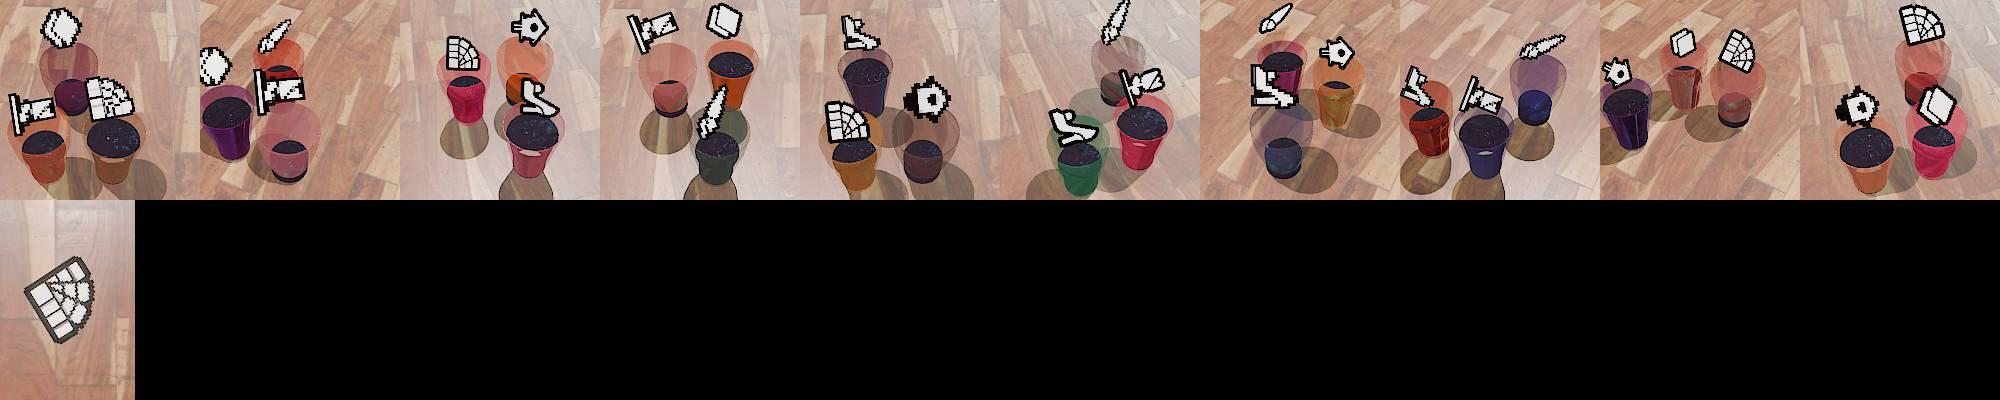icon: (22, 256, 97, 347), (251, 66, 309, 119), (902, 73, 953, 122), (85, 74, 136, 121), (627, 9, 679, 55), (1118, 65, 1167, 112), (7, 91, 58, 136), (1047, 104, 1100, 147), (1250, 62, 1297, 109), (823, 100, 872, 145), (1456, 73, 1505, 118), (1915, 83, 1958, 129), (1898, 3, 1945, 45), (1835, 85, 1880, 128), (1716, 27, 1756, 74), (39, 7, 82, 50), (518, 75, 560, 119), (695, 85, 729, 138), (510, 8, 550, 50), (1517, 32, 1567, 63), (840, 14, 879, 53), (198, 46, 234, 88), (1401, 64, 1435, 107), (705, 2, 743, 40), (1099, 0, 1131, 45), (445, 34, 481, 72), (257, 18, 292, 55), (1318, 35, 1354, 69), (1259, 2, 1293, 35), (1601, 56, 1634, 89), (1669, 27, 1698, 58)
